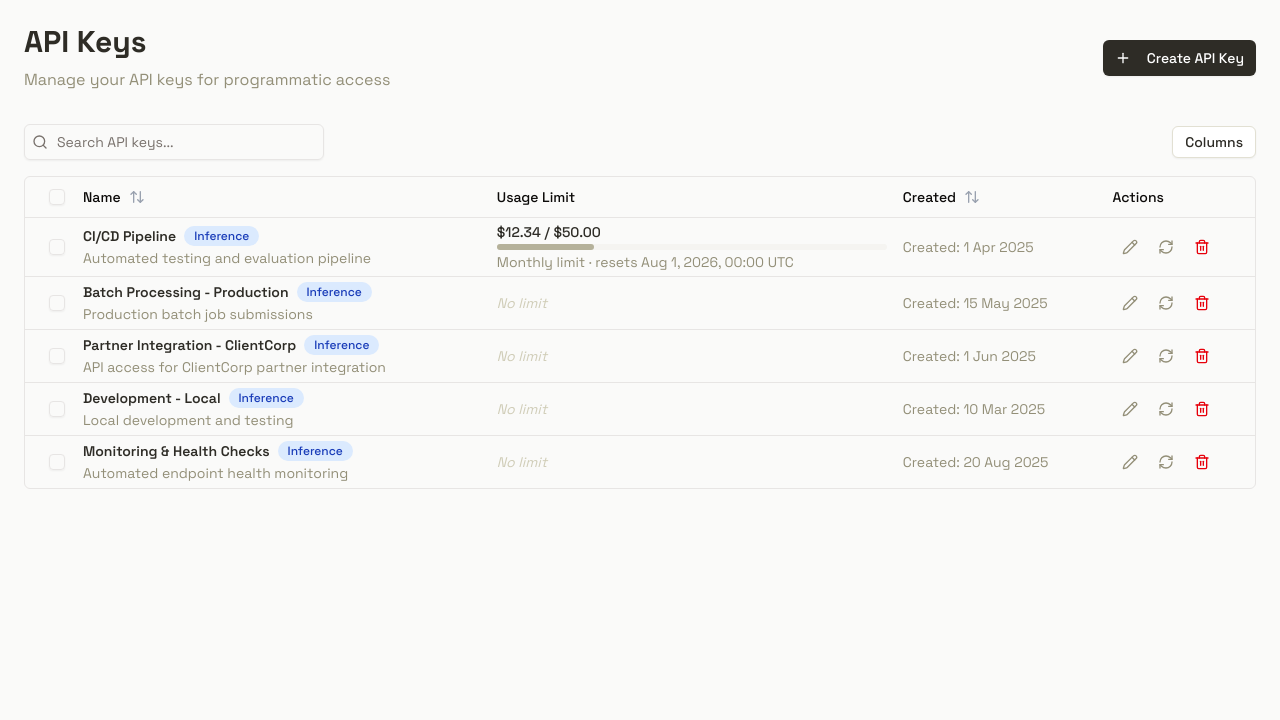
Test: API Keys Component - Functional Tests › API Key Creation Journey › validates required name field
Check: the heading "API Keys" is shown, box x1=24 y1=22 x2=147 y2=61
Click the button with aria-label "create new api key": click(1179, 58) x1=1103 y1=40 x2=1256 y2=76
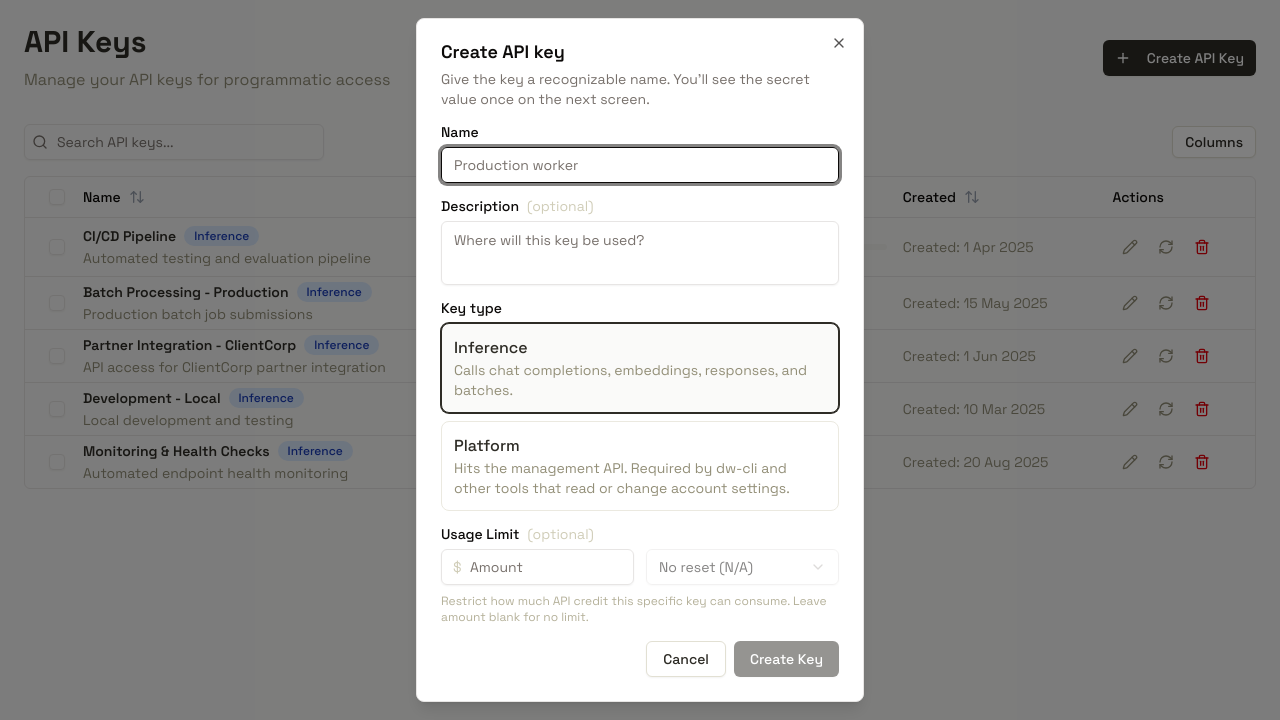
Check: the dialog is shown, box x1=416 y1=18 x2=864 y2=702
Check: the button "Create Key" is disabled, box x1=734 y1=641 x2=839 y2=677
In the field labelled "Name": (640, 165) x1=441 y1=147 x2=839 y2=183, type "My Key"
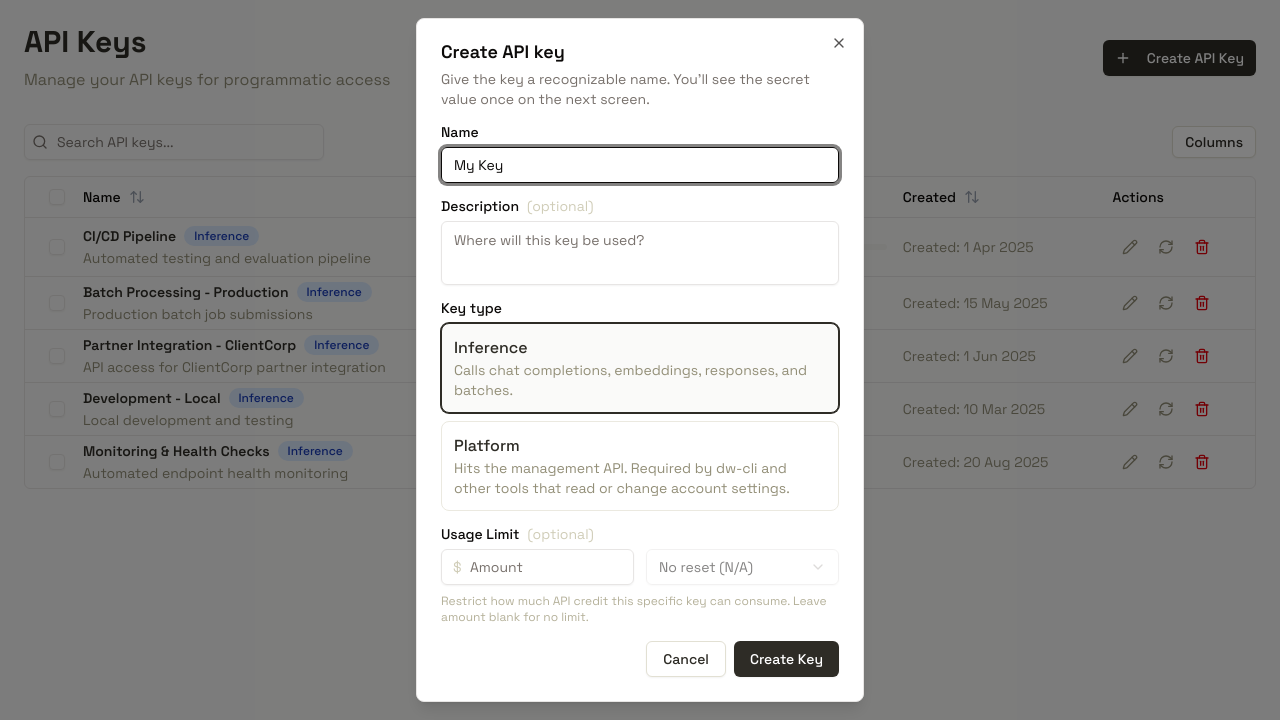
Check: the button "Create Key" is enabled, box x1=734 y1=641 x2=839 y2=677
